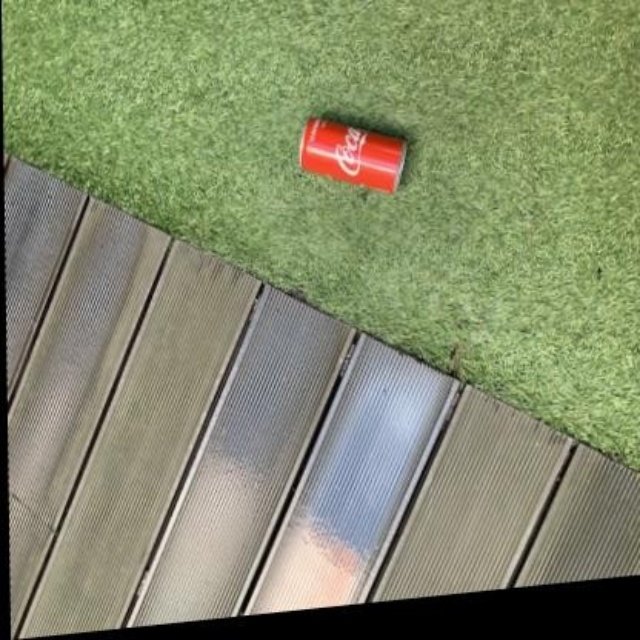trash: (300, 117, 405, 192)
